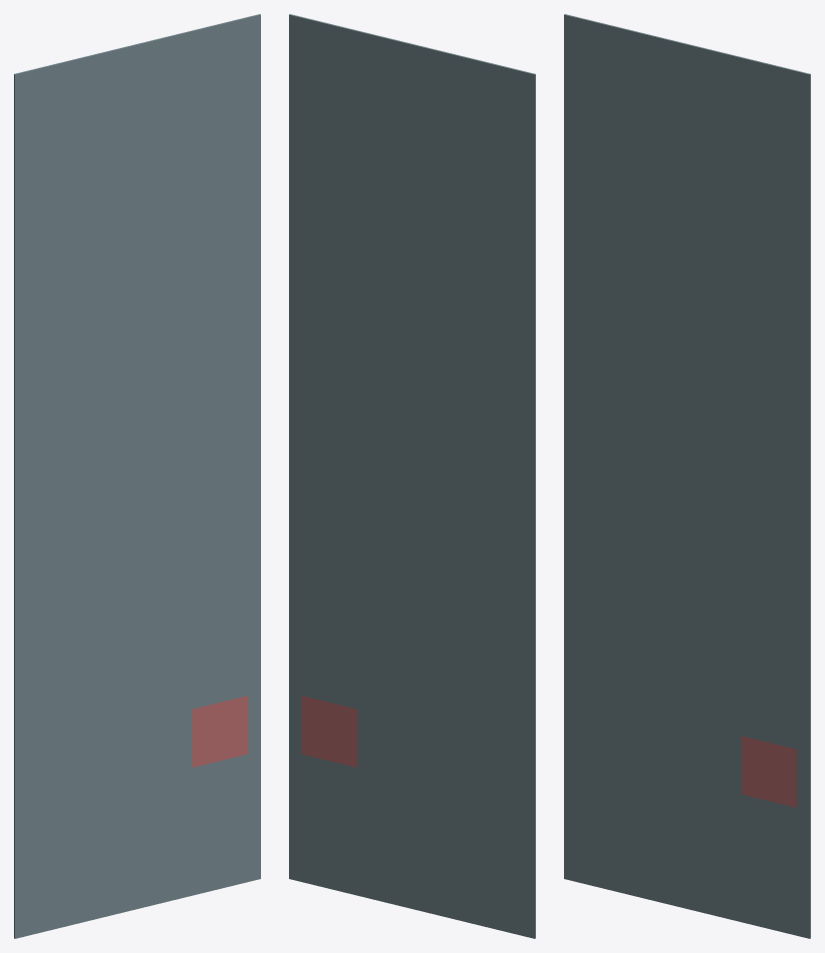
File: step_02.glb
3 renders of one model, left to right at view 1: azimuth 30°, elevation 25°; view 2: azimuth 150°, elevation 25°; view 3: azimuth 330°, elevation 25°, orthographic.
Visible parts, largest first — view 1: part__skin plate, removed__skin plate; view 2: part__skin plate, removed__skin plate; view 3: part__skin plate, removed__skin plate.
Part boxes in pixels (<box>): part__skin plate: <box>14,14,260,938</box>; removed__skin plate: <box>192,695,248,767</box>; part__skin plate: <box>289,14,535,938</box>; removed__skin plate: <box>301,695,357,767</box>; part__skin plate: <box>564,14,810,938</box>; removed__skin plate: <box>741,736,797,807</box>.
Bounding box in the file's own units: 1760 × 5910 × 12.
